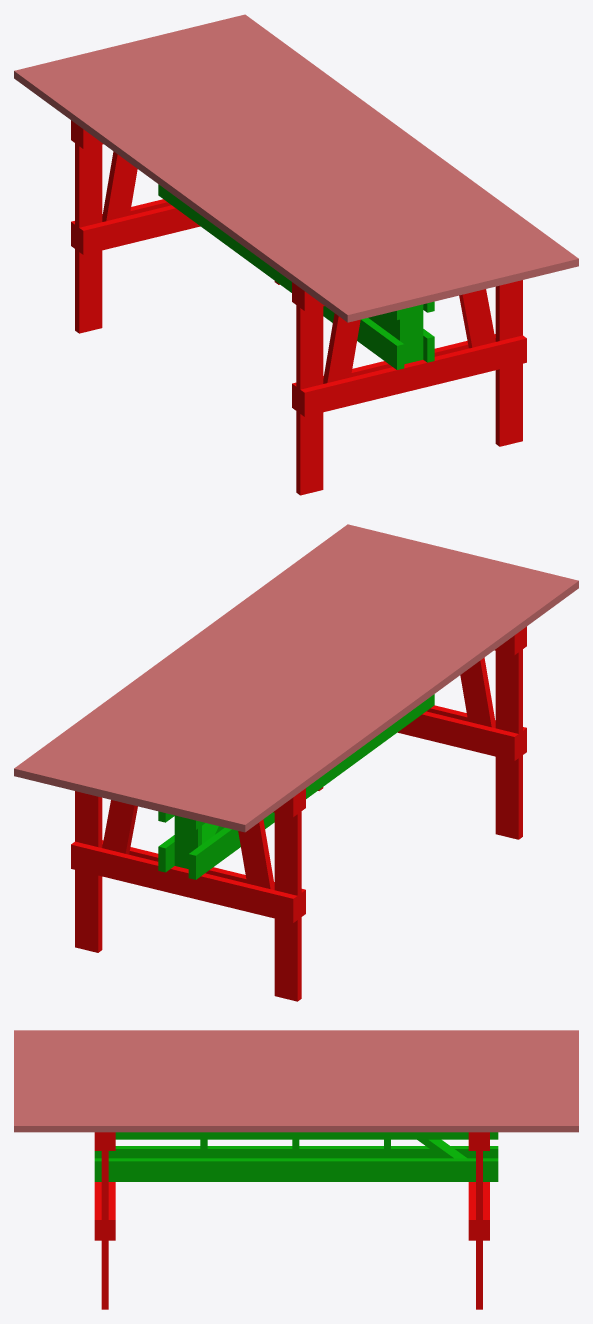
File: result.glb
3 renders of one model, top to bottom at view 1: azimuth 30°, elevation 25°; view 2: azimuth 150°, elevation 25°; view 3: azimuth 270°, elevation 25°, orthographic. The views are drawn at different scales.
Visible parts, largest first — view 1: 60960806-2e86-4909-b09a-b8711fcabd95__Box, cb875664-2564-4123-8ba3-4d4ff2f78d0d__undefined, deb8ada1-eaf6-47e1-8a9e-252a01aa0b0b__undefined, 35b0df9d-13f5-4480-bb85-76ae2dcd9831__undefined, a10f4980-959c-45b1-ad07-8694161faefa__undefined, 24b9c827-06cf-4c27-991b-9c5a19f93eeb__undefined, d2d972d0-f841-452a-a9d1-ec053360ef33__undefined, 34e17b2b-0f27-4ba7-946e-981e9159413b__undefined, 58b2bf55-c1da-415c-9ab8-b74a51e4b0fb__undefined, 76779216-e90c-4998-bf40-ef6086777432__undefined, 57b6b411-5921-49e3-8e72-b40d2a1b4ca9__sideH, 6ecf33e9-917e-476b-b70e-349935dd18f2__sideV (+10 smaller); view 2: 60960806-2e86-4909-b09a-b8711fcabd95__Box, cb875664-2564-4123-8ba3-4d4ff2f78d0d__undefined, d2d972d0-f841-452a-a9d1-ec053360ef33__undefined, 35b0df9d-13f5-4480-bb85-76ae2dcd9831__undefined, deb8ada1-eaf6-47e1-8a9e-252a01aa0b0b__undefined, 24b9c827-06cf-4c27-991b-9c5a19f93eeb__undefined, a10f4980-959c-45b1-ad07-8694161faefa__undefined, 58b2bf55-c1da-415c-9ab8-b74a51e4b0fb__undefined, 34e17b2b-0f27-4ba7-946e-981e9159413b__undefined, 76779216-e90c-4998-bf40-ef6086777432__undefined, f8e4481a-5a0f-4231-8529-10e659640831__undefined, d52f2d4a-7616-4368-8878-653de2b7be3a__undefined (+9 smaller); view 3: 58b2bf55-c1da-415c-9ab8-b74a51e4b0fb__undefined, 9dcf8106-1220-4ccc-bb89-35443afeb19c__strutH, cb875664-2564-4123-8ba3-4d4ff2f78d0d__undefined, deb8ada1-eaf6-47e1-8a9e-252a01aa0b0b__undefined, 60960806-2e86-4909-b09a-b8711fcabd95__Box, 34e17b2b-0f27-4ba7-946e-981e9159413b__undefined, 76779216-e90c-4998-bf40-ef6086777432__undefined, 35b0df9d-13f5-4480-bb85-76ae2dcd9831__undefined, 24b9c827-06cf-4c27-991b-9c5a19f93eeb__undefined, a10f4980-959c-45b1-ad07-8694161faefa__undefined, d2d972d0-f841-452a-a9d1-ec053360ef33__undefined, eb8d3bef-6999-43c3-bd72-9adec383611c__strutH (+8 smaller).
Boxes of the visible parts, x1=… form: 60960806-2e86-4909-b09a-b8711fcabd95__Box: x1=14, y1=65, x2=370, y2=322; cb875664-2564-4123-8ba3-4d4ff2f78d0d__undefined: x1=153, y1=31, x2=509, y2=288; deb8ada1-eaf6-47e1-8a9e-252a01aa0b0b__undefined: x1=199, y1=20, x2=555, y2=277; 35b0df9d-13f5-4480-bb85-76ae2dcd9831__undefined: x1=84, y1=48, x2=440, y2=305; a10f4980-959c-45b1-ad07-8694161faefa__undefined: x1=130, y1=37, x2=486, y2=294; 24b9c827-06cf-4c27-991b-9c5a19f93eeb__undefined: x1=107, y1=42, x2=463, y2=299; d2d972d0-f841-452a-a9d1-ec053360ef33__undefined: x1=176, y1=26, x2=532, y2=282; 34e17b2b-0f27-4ba7-946e-981e9159413b__undefined: x1=37, y1=59, x2=393, y2=316; 58b2bf55-c1da-415c-9ab8-b74a51e4b0fb__undefined: x1=222, y1=14, x2=578, y2=271; 76779216-e90c-4998-bf40-ef6086777432__undefined: x1=60, y1=54, x2=416, y2=311; 57b6b411-5921-49e3-8e72-b40d2a1b4ca9__sideH: x1=300, y1=335, x2=526, y2=416; 6ecf33e9-917e-476b-b70e-349935dd18f2__sideV: x1=296, y1=285, x2=323, y2=495; 60960806-2e86-4909-b09a-b8711fcabd95__Box: x1=222, y1=575, x2=578, y2=832; cb875664-2564-4123-8ba3-4d4ff2f78d0d__undefined: x1=83, y1=541, x2=439, y2=798; d2d972d0-f841-452a-a9d1-ec053360ef33__undefined: x1=60, y1=535, x2=416, y2=792; 35b0df9d-13f5-4480-bb85-76ae2dcd9831__undefined: x1=152, y1=558, x2=509, y2=815; deb8ada1-eaf6-47e1-8a9e-252a01aa0b0b__undefined: x1=37, y1=530, x2=393, y2=787; 24b9c827-06cf-4c27-991b-9c5a19f93eeb__undefined: x1=129, y1=552, x2=485, y2=809; a10f4980-959c-45b1-ad07-8694161faefa__undefined: x1=106, y1=547, x2=462, y2=804; 58b2bf55-c1da-415c-9ab8-b74a51e4b0fb__undefined: x1=14, y1=524, x2=370, y2=781; 34e17b2b-0f27-4ba7-946e-981e9159413b__undefined: x1=199, y1=569, x2=555, y2=826; 76779216-e90c-4998-bf40-ef6086777432__undefined: x1=176, y1=564, x2=532, y2=821; f8e4481a-5a0f-4231-8529-10e659640831__undefined: x1=71, y1=841, x2=297, y2=922; d52f2d4a-7616-4368-8878-653de2b7be3a__undefined: x1=274, y1=791, x2=301, y2=1001; 58b2bf55-c1da-415c-9ab8-b74a51e4b0fb__undefined: x1=14, y1=1116, x2=578, y2=1132; 9dcf8106-1220-4ccc-bb89-35443afeb19c__strutH: x1=94, y1=1158, x2=498, y2=1181; cb875664-2564-4123-8ba3-4d4ff2f78d0d__undefined: x1=14, y1=1087, x2=578, y2=1097; deb8ada1-eaf6-47e1-8a9e-252a01aa0b0b__undefined: x1=14, y1=1106, x2=578, y2=1116; 60960806-2e86-4909-b09a-b8711fcabd95__Box: x1=14, y1=1030, x2=578, y2=1039; 34e17b2b-0f27-4ba7-946e-981e9159413b__undefined: x1=14, y1=1040, x2=578, y2=1049; 76779216-e90c-4998-bf40-ef6086777432__undefined: x1=14, y1=1049, x2=578, y2=1058; 35b0df9d-13f5-4480-bb85-76ae2dcd9831__undefined: x1=14, y1=1059, x2=578, y2=1068; 24b9c827-06cf-4c27-991b-9c5a19f93eeb__undefined: x1=14, y1=1068, x2=578, y2=1077; a10f4980-959c-45b1-ad07-8694161faefa__undefined: x1=14, y1=1078, x2=578, y2=1087; d2d972d0-f841-452a-a9d1-ec053360ef33__undefined: x1=14, y1=1097, x2=578, y2=1106; eb8d3bef-6999-43c3-bd72-9adec383611c__strutH: x1=94, y1=1146, x2=498, y2=1158.
Bounding box in the file's own units: 800 × 725 × 2000.
